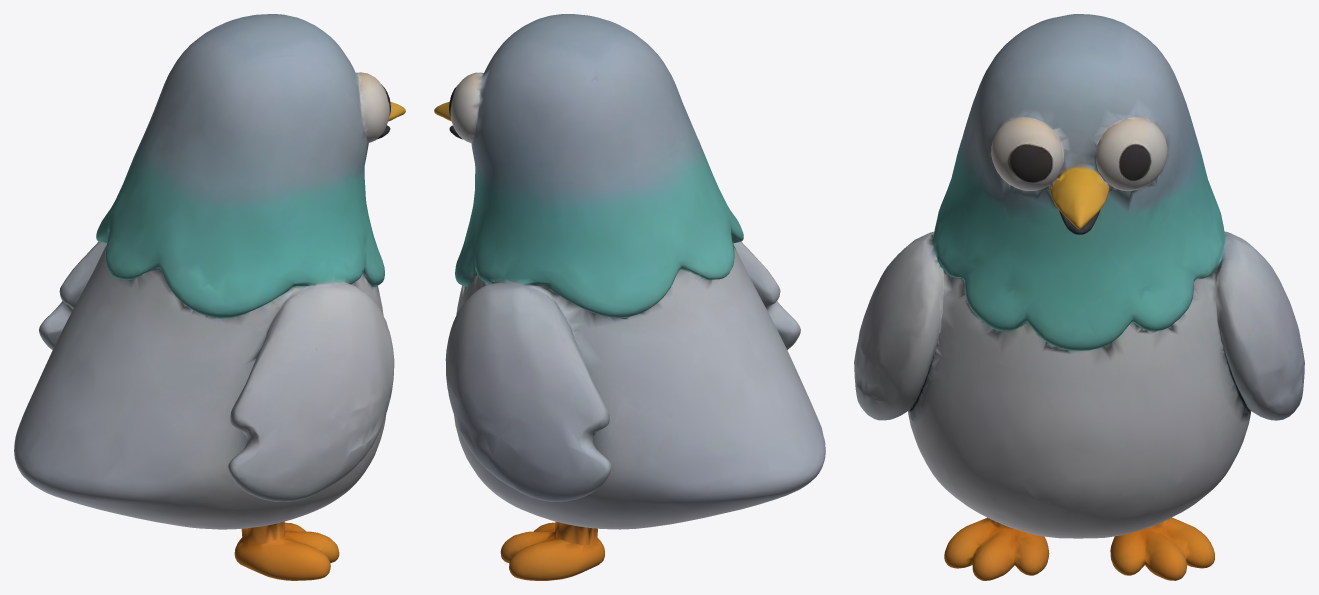
Rendered from pigeon.glb.
The picture shows the model from 3 angles, left to right: view 1: azimuth 30°, elevation 25°; view 2: azimuth 150°, elevation 25°; view 3: azimuth 270°, elevation 25°; orthographic projection. The views are drawn at different scales.
Parts seen in each view (by area): view 1: tripo_node_1657dafe-c8ed-4a8e-a3c1-c286b8fbb5f7; view 2: tripo_node_1657dafe-c8ed-4a8e-a3c1-c286b8fbb5f7; view 3: tripo_node_1657dafe-c8ed-4a8e-a3c1-c286b8fbb5f7.
Boxes of the visible parts, box(x1,y1,x2,y2) form: tripo_node_1657dafe-c8ed-4a8e-a3c1-c286b8fbb5f7: box(14, 14, 405, 580); tripo_node_1657dafe-c8ed-4a8e-a3c1-c286b8fbb5f7: box(434, 14, 825, 580); tripo_node_1657dafe-c8ed-4a8e-a3c1-c286b8fbb5f7: box(854, 14, 1304, 580).
Bounding box in the file's own units: 0.7788 × 0.9999 × 0.7508.
Materials: 1 (1 with a texture image).
